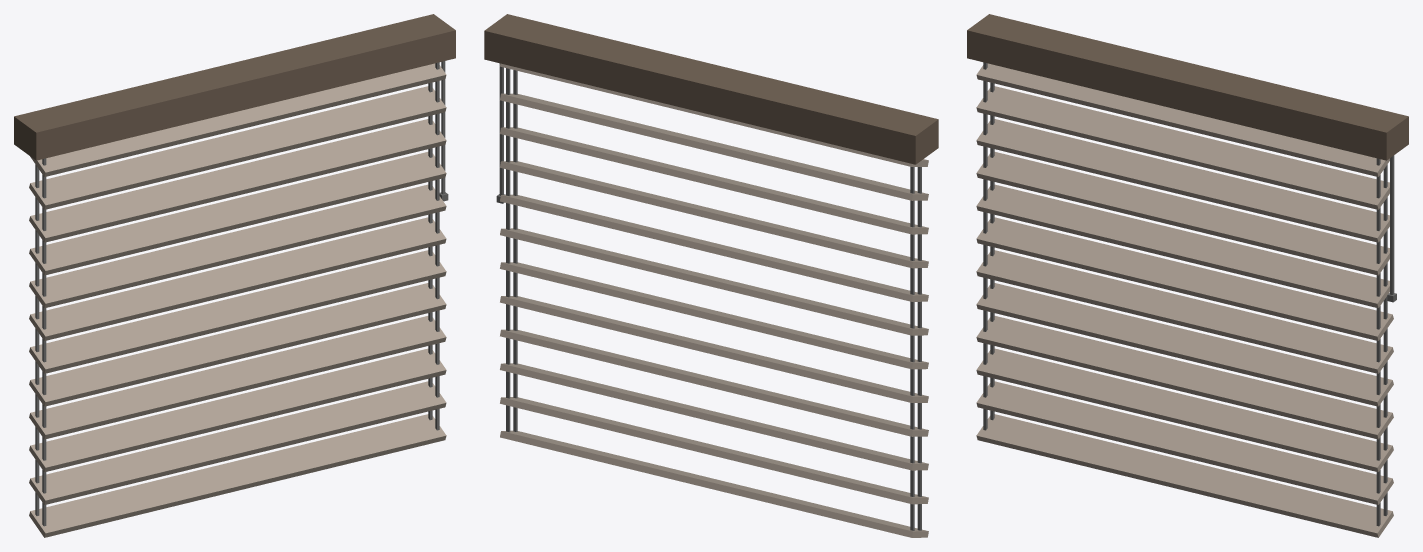
Rendered from Curtains11_C2.fbx.
3 renders of one model, left to right at view 1: azimuth 30°, elevation 25°; view 2: azimuth 150°, elevation 25°; view 3: azimuth 330°, elevation 25°, orthographic. The views are drawn at different scales.
Visible parts, largest first — view 1: Curtains11_C2; view 2: Curtains11_C2; view 3: Curtains11_C2.
Boxes of the visible parts, box(x1,y1,x2,y2) form: Curtains11_C2: box(14, 14, 455, 537); Curtains11_C2: box(484, 14, 938, 537); Curtains11_C2: box(967, 14, 1408, 537).
Bounding box in the file's own units: 138 × 128 × 12.67.
